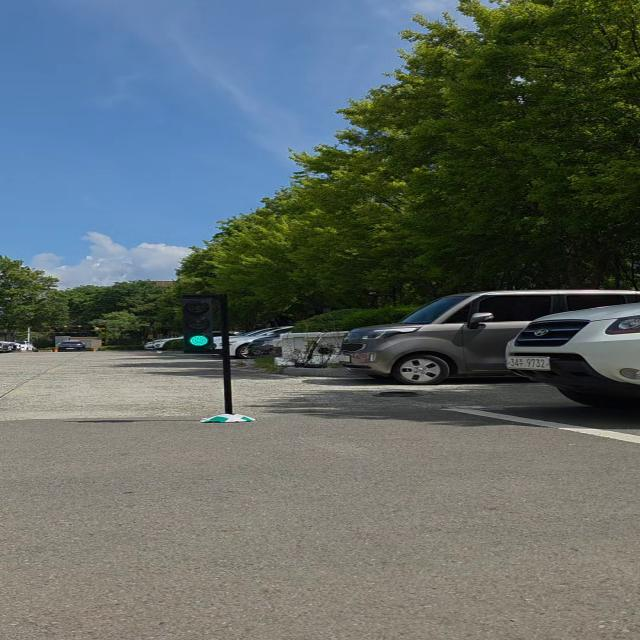green: (178, 294, 221, 352)
